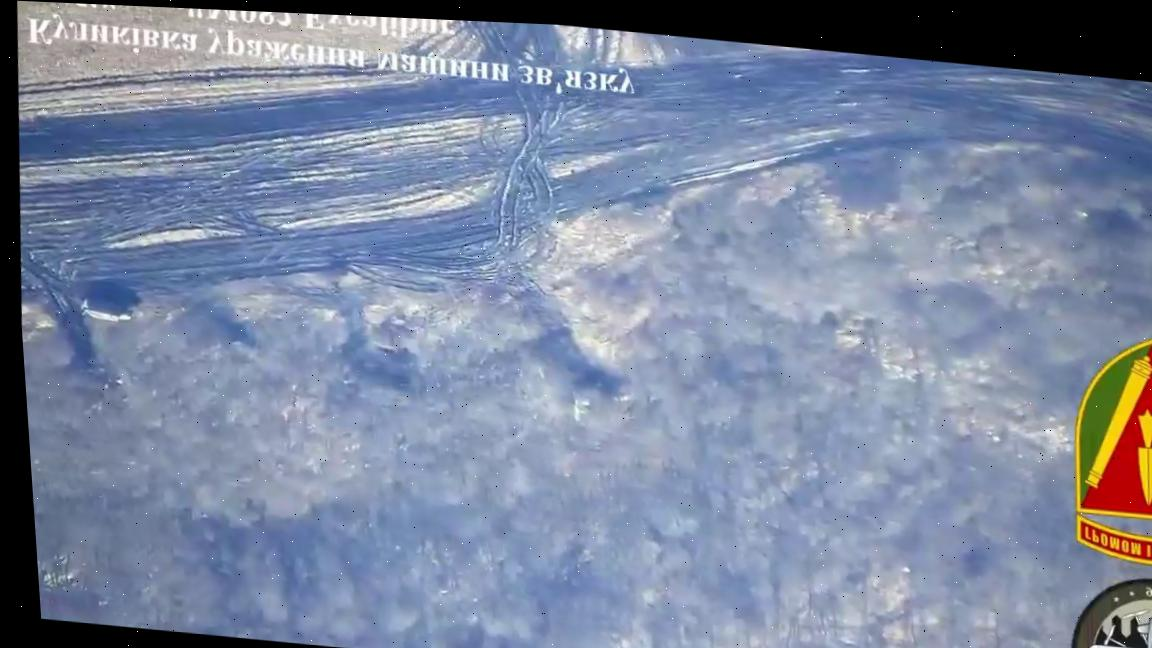vehicle: (78, 293, 129, 322)
